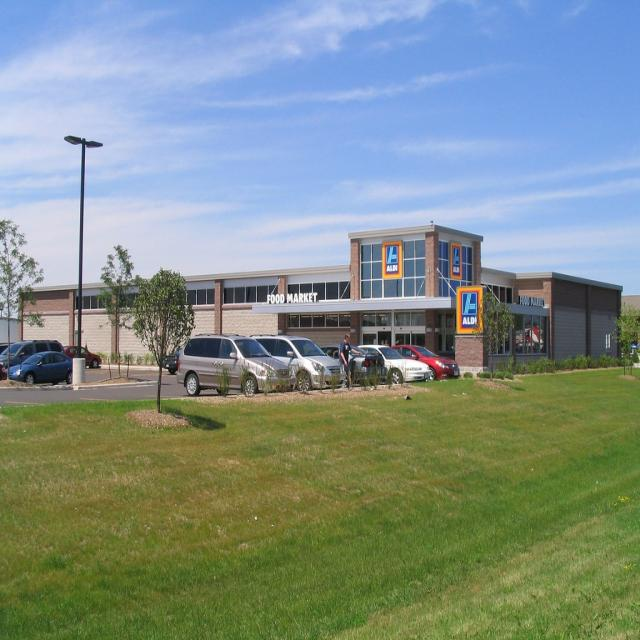aldi: (456, 288, 485, 336), (383, 242, 404, 279), (450, 243, 464, 281)
